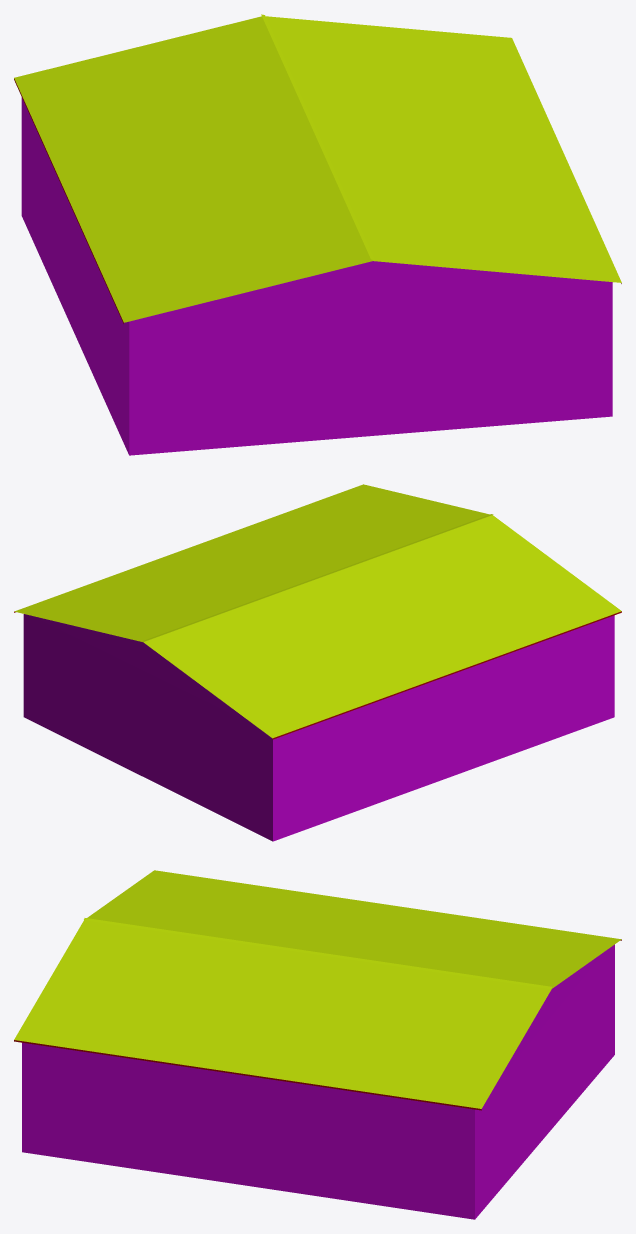
The model's file is bgj_76.glb.
The picture shows the model from 3 angles, top to bottom: view 1: azimuth 30°, elevation 25°; view 2: azimuth 150°, elevation 25°; view 3: azimuth 270°, elevation 25°; orthographic projection. The views are drawn at different scales.
Visible parts, largest first — view 1: bgj_76; view 2: bgj_76; view 3: bgj_76.
Boxes of the visible parts, box(x1,y1,x2,y2) form: bgj_76: box(14, 14, 621, 455); bgj_76: box(14, 484, 621, 841); bgj_76: box(14, 870, 621, 1219).
Bounding box in the file's own units: 40.44 × 11.91 × 43.51.
